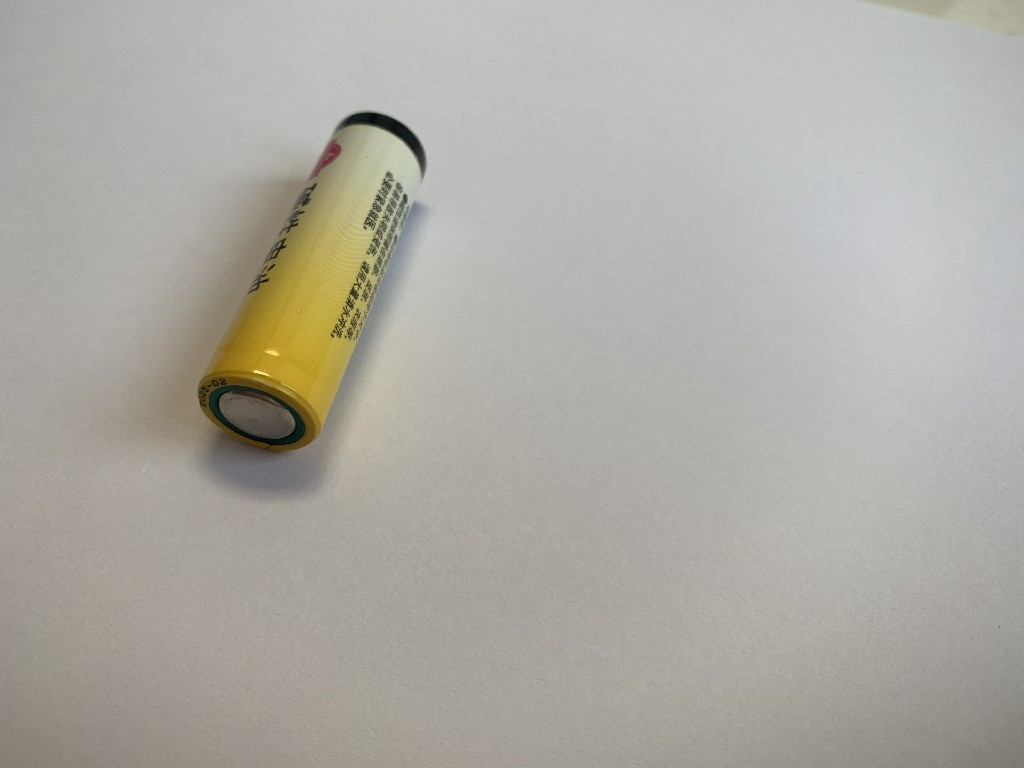charge: (189, 104, 433, 464)
